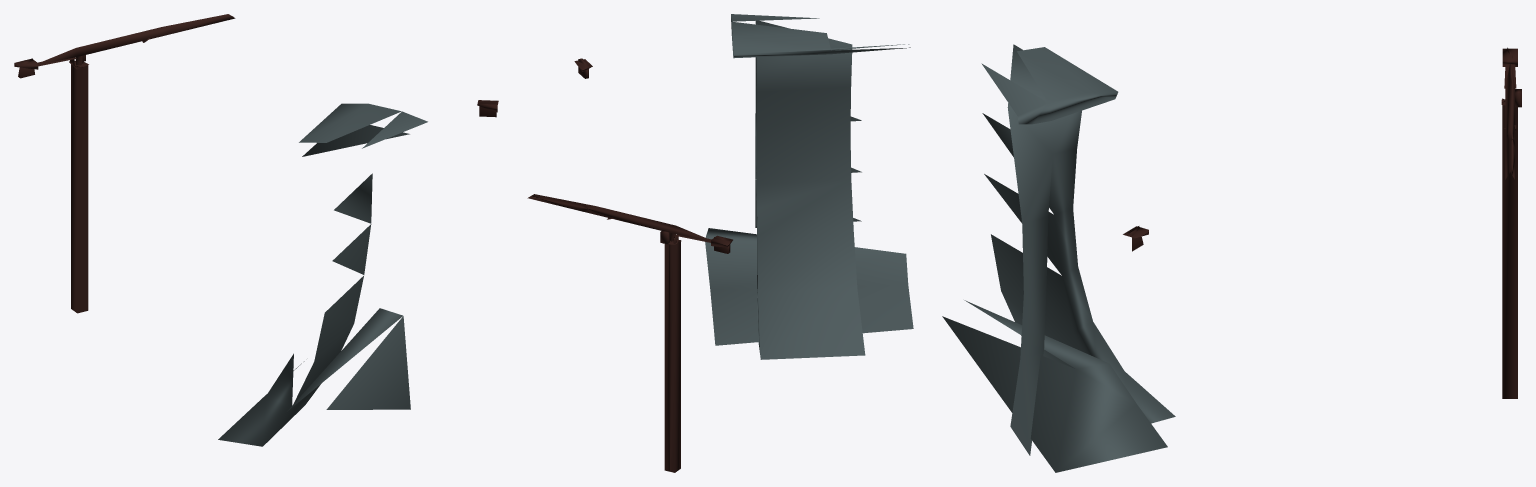
3 renders of one model, left to right at view 1: azimuth 30°, elevation 25°; view 2: azimuth 150°, elevation 25°; view 3: azimuth 270°, elevation 25°, orthographic. The views are drawn at different scales.
Visible parts, largest first — view 1: merged__lod1; view 2: merged__lod1; view 3: merged__lod1.
Part boxes in pixels (x1,y1,x2,y2): merged__lod1: (14, 14, 498, 446); merged__lod1: (527, 14, 913, 472); merged__lod1: (942, 44, 1521, 472).
Bounding box in the file's own units: 133 × 120 × 172.
